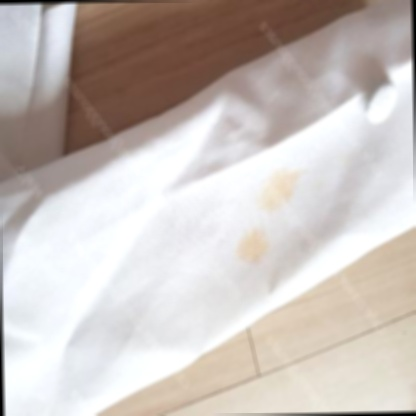kimchi: (261, 164, 307, 217), (238, 233, 269, 270)
